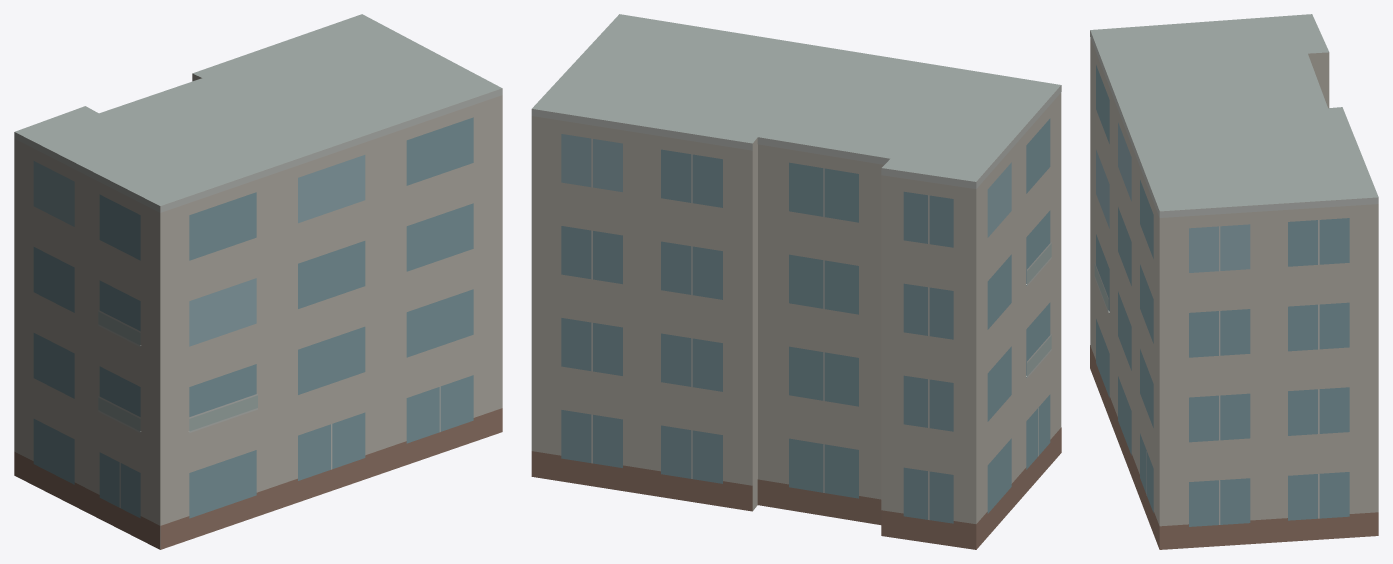
Rendered from survey-upis-32971091.glb.
The picture shows the model from 3 angles, left to right: view 1: azimuth 30°, elevation 25°; view 2: azimuth 150°, elevation 25°; view 3: azimuth 270°, elevation 25°; orthographic projection. The views are drawn at different scales.
Visible parts, largest first — view 1: survey-upis-32971091.tmp; view 2: survey-upis-32971091.tmp; view 3: survey-upis-32971091.tmp.
Part boxes in pixels (left/top/right/bottom): survey-upis-32971091.tmp: left=14, top=14, right=502, bottom=549; survey-upis-32971091.tmp: left=531, top=14, right=1061, bottom=549; survey-upis-32971091.tmp: left=1090, top=14, right=1378, bottom=549.
Size of the model in its own units: 15.57 by 12.44 by 9.62.
